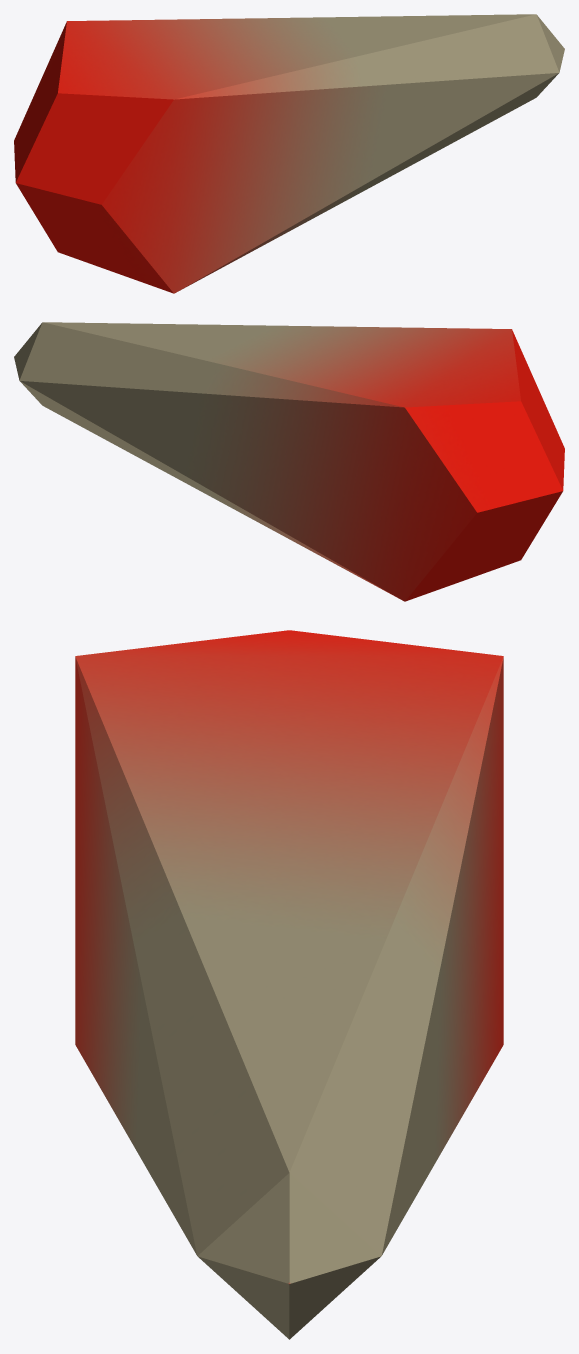
The model's file is fireStone.obj.
3 renders of one model, top to bottom at view 1: azimuth 30°, elevation 25°; view 2: azimuth 150°, elevation 25°; view 3: azimuth 270°, elevation 25°, orthographic. The views are drawn at different scales.
Parts seen in each view (by area): view 1: Circle; view 2: Circle; view 3: Circle.
Part boxes in pixels (<box>): Circle: <box>14,14,564,293</box>; Circle: <box>14,322,564,601</box>; Circle: <box>75,630,503,1339</box>.
Bounding box in the file's own units: 1.87 × 0.6328 × 0.6328.
1 material, 1 textured.
